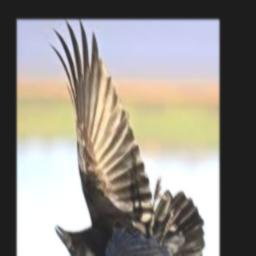Crow: (50, 20, 205, 256)
